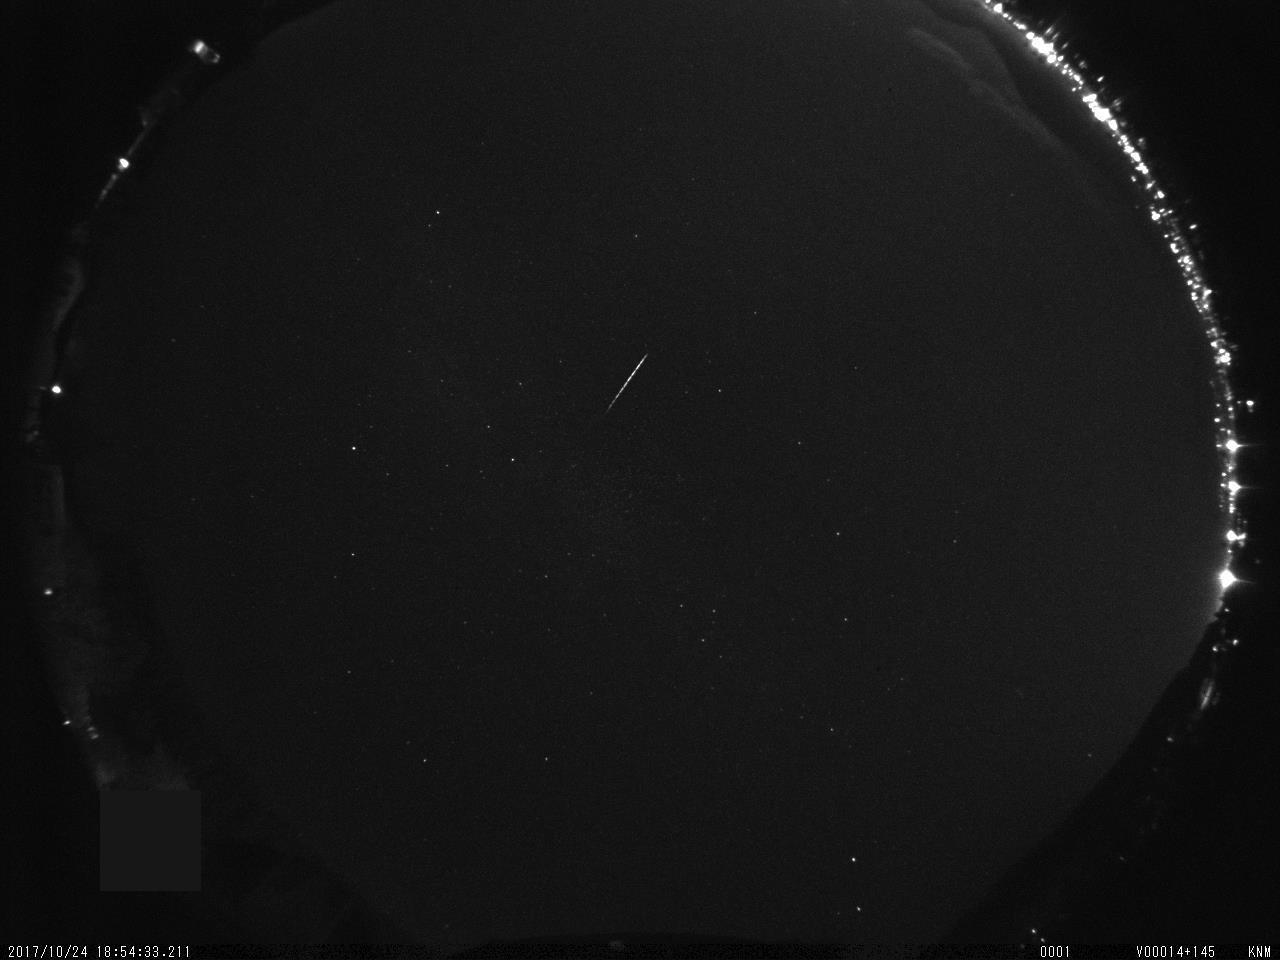Meteor: (601, 344, 651, 425)
